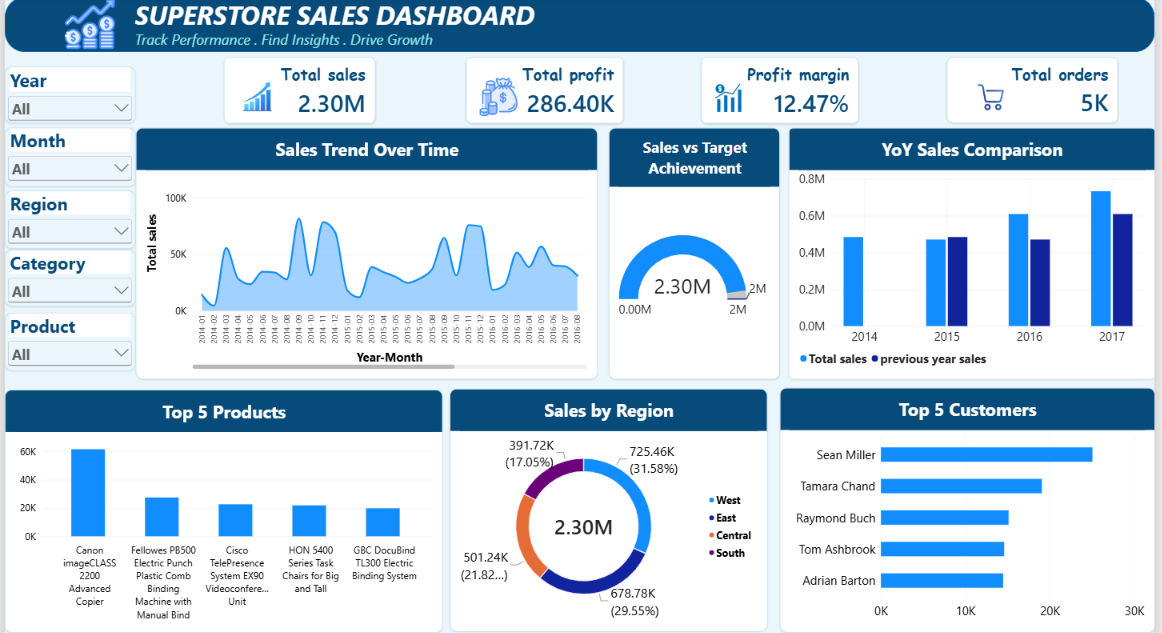

The dashboard page shown, as its layout file describes it:
{"tool":"powerbi","page":{"name":"overview","canvas":[1920,1080],"ordinal":0},"visuals":[{"type":"shape","box":[0,0,1920.1,92.3],"z":0},{"type":"textbox","box":[217.2,0,991.7,77.8],"z":1000},{"type":"textbox","box":[217.2,54.3,977.2,38],"z":2000},{"type":"cardVisual","title":"Total Sales","fields":{"Data":["Superstore.Total sales"]},"box":[365.6,99.5,253.4,112.2],"z":3000},{"type":"cardVisual","fields":{"Data":["Superstore.Total profit"]},"box":[769.1,99.5,264.2,112.2],"z":4000},{"type":"cardVisual","fields":{"Data":["Superstore.Profit margin"]},"box":[1161.8,99.5,264.2,112.2],"z":5000},{"type":"cardVisual","fields":{"Data":["Superstore.Total orders"]},"box":[1572.6,99.5,286.1,111.1],"z":6000},{"type":"lineChart","title":" Sales Trend Over Time","fields":{"Category":["Date Table.Year-Month"],"Y":["Superstore.Total sales"]},"box":[219,219,770.9,419.8],"z":7000},{"type":"donutChart","title":"Sales by Region","fields":{"Category":["Superstore.Region"],"Y":["Superstore.Total sales"]},"box":[743.8,655.1,530.2,405.4],"z":8000},{"type":"clusteredColumnChart","title":"Top 5 Products","fields":{"Category":["Superstore.Product Name"],"Y":["Superstore.Total sales"]},"box":[0,656.9,731.1,405.4],"z":9000},{"type":"image","box":[100.9,0,84.4,90.6],"z":10000},{"type":"image","box":[1158.2,141.2,98.8,53.5],"z":11000},{"type":"image","box":[787.2,135.7,76.2,63.8],"z":12000},{"type":"image","box":[1579.8,126.7,135.8,78.2],"z":13000},{"type":"image","box":[365.6,128.5,109.1,78.2],"z":14000},{"type":"clusteredBarChart","title":"Top 5 Customers ","fields":{"Category":["Superstore.Customer Name"],"Y":["Superstore.Total sales"]},"box":[1293.9,653.3,626.1,409],"z":15000},{"type":"slicer","fields":{"Values":["Date Table.Year"]},"box":[0,117.6,218.2,94.7],"z":16000},{"type":"slicer","fields":{"Values":["Date Table.Month"]},"box":[0,219,218.2,98.8],"z":17000},{"type":"slicer","fields":{"Values":["Superstore.Region"]},"box":[0,323.9,218.2,96.7],"z":18000},{"type":"slicer","fields":{"Values":["Superstore.Category"]},"box":[0,421.7,218.2,94.7],"z":19000},{"type":"slicer","fields":{"Values":["Superstore.Product Name"]},"box":[0,528.4,218.2,96.7],"z":20000},{"type":"gauge","title":"Sales vs Target Achievement","fields":{"MaxValue":["Sales Targets.Total Sales Target"],"TargetValue":["Sales Targets.Total Sales Target"],"Y":["Superstore.Total sales"]},"box":[1008,219,285.9,419.8],"z":21000},{"type":"clusteredColumnChart","title":"YoY Sales Comparison","fields":{"Category":["Date Table.Year"],"Y":["Superstore.Total sales","Superstore.previous year sales"]},"box":[1308.4,219,611.7,419.8],"z":22000}]}

Visuals, with their boxes on the page's 1920x1080 design canvas (x1, y1, x2, y2). These are canvas units, not pixel positions in the 1162x633 screenshot, which may show the page scaled, cropped or inside an application window:
shape: [x1=0, y1=0, x2=1920, y2=92]
textbox: [x1=217, y1=0, x2=1209, y2=78]
textbox: [x1=217, y1=54, x2=1194, y2=92]
"Total Sales" cardVisual: [x1=366, y1=100, x2=619, y2=212]
cardVisual - Superstore.Total profit: [x1=769, y1=100, x2=1033, y2=212]
cardVisual - Superstore.Profit margin: [x1=1162, y1=100, x2=1426, y2=212]
cardVisual - Superstore.Total orders: [x1=1573, y1=100, x2=1859, y2=211]
" Sales Trend Over Time" lineChart: [x1=219, y1=219, x2=990, y2=639]
"Sales by Region" donutChart: [x1=744, y1=655, x2=1274, y2=1060]
"Top 5 Products" clusteredColumnChart: [x1=0, y1=657, x2=731, y2=1062]
image: [x1=101, y1=0, x2=185, y2=91]
image: [x1=1158, y1=141, x2=1257, y2=195]
image: [x1=787, y1=136, x2=863, y2=200]
image: [x1=1580, y1=127, x2=1716, y2=205]
image: [x1=366, y1=128, x2=475, y2=207]
"Top 5 Customers " clusteredBarChart: [x1=1294, y1=653, x2=1920, y2=1062]
slicer - Date Table.Year: [x1=0, y1=118, x2=218, y2=212]
slicer - Date Table.Month: [x1=0, y1=219, x2=218, y2=318]
slicer - Superstore.Region: [x1=0, y1=324, x2=218, y2=421]
slicer - Superstore.Category: [x1=0, y1=422, x2=218, y2=516]
slicer - Superstore.Product Name: [x1=0, y1=528, x2=218, y2=625]
"Sales vs Target Achievement" gauge: [x1=1008, y1=219, x2=1294, y2=639]
"YoY Sales Comparison" clusteredColumnChart: [x1=1308, y1=219, x2=1920, y2=639]
